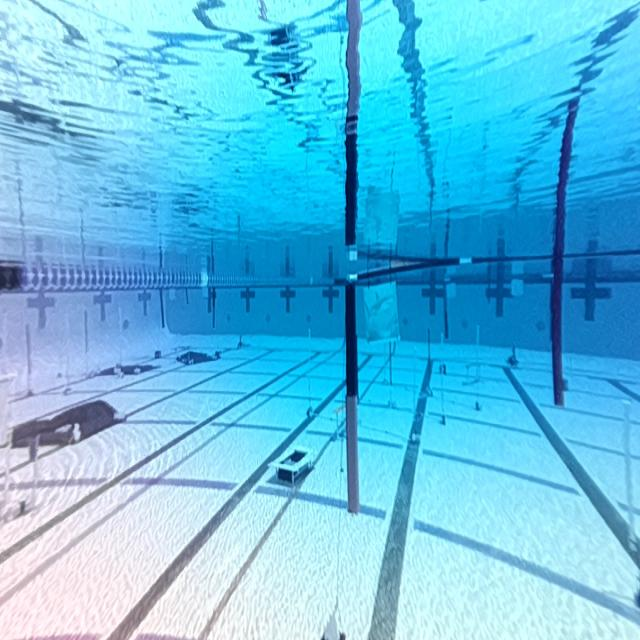round_nose: (364, 287, 399, 337)
